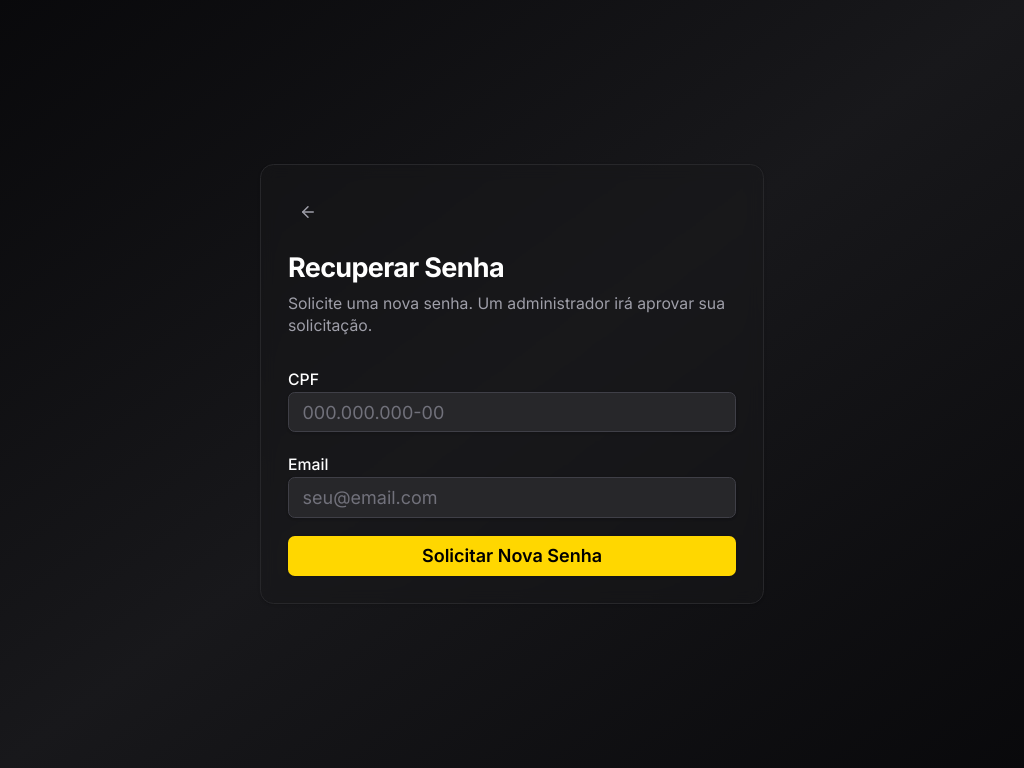
Test: Password Reset Page › should validate email format
Note: Enter valid CPF but invalid email
Type "61120319064" into the field with test id "reset-cpf-input" at [512, 412], box [288,392,736,432]
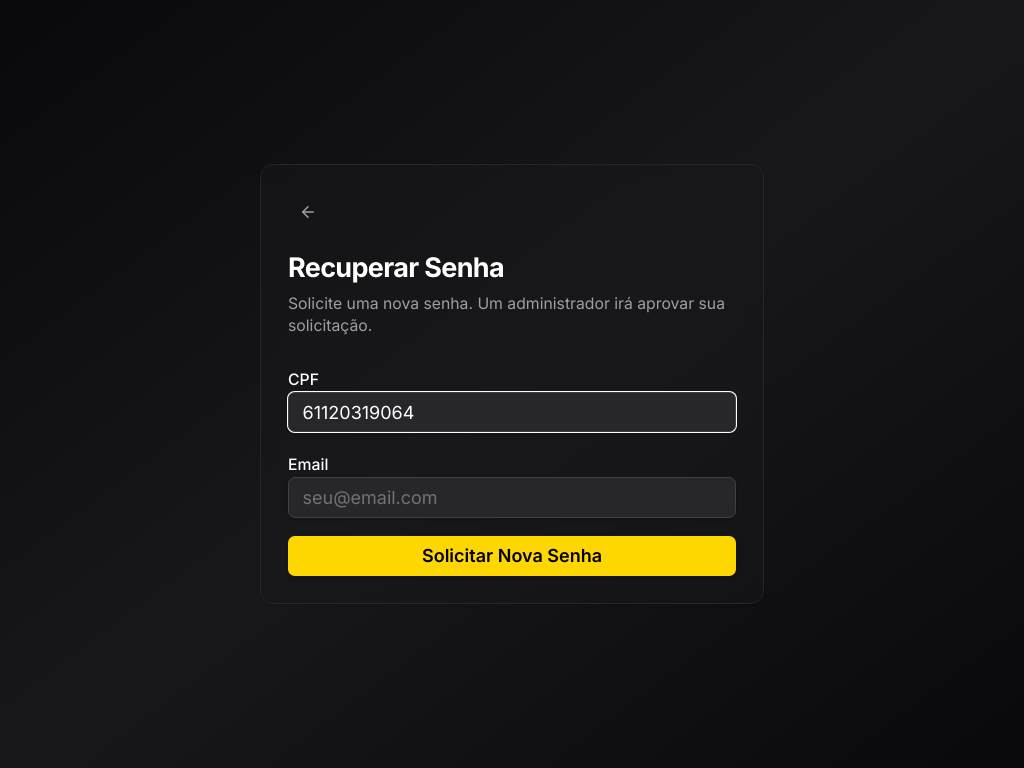
Type "invalid-email" into the field with test id "reset-email-input" at [512, 498], box [288,477,736,518]
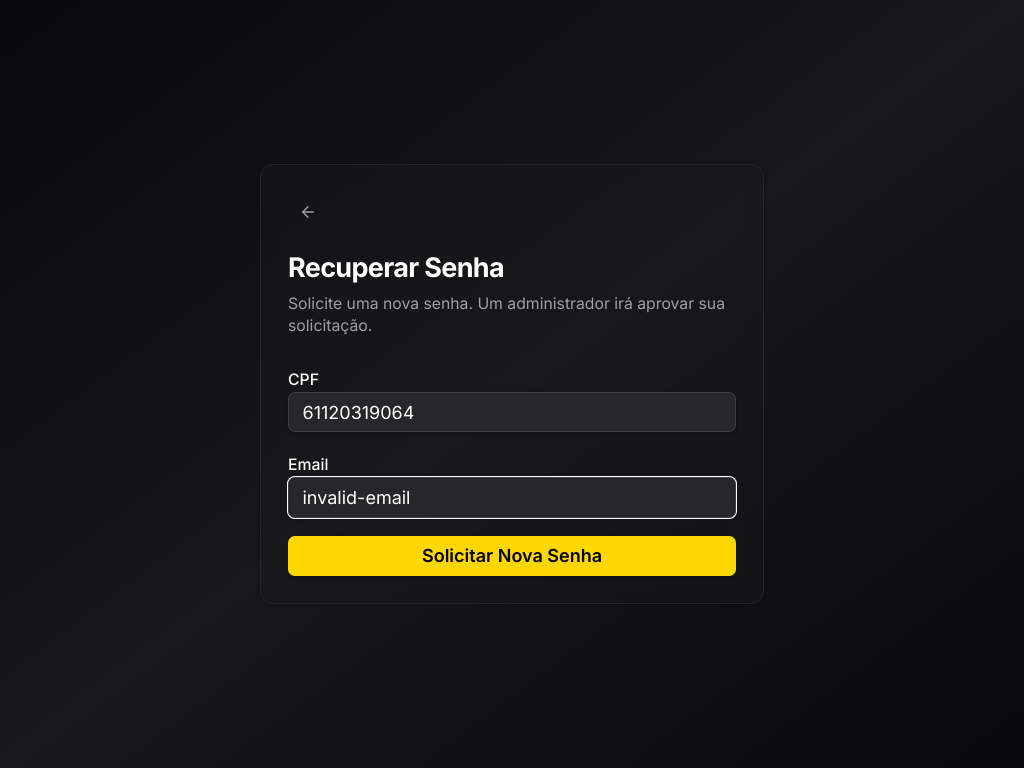
Click the button with test id "reset-submit-button" at [512, 556], box [288,536,736,576]
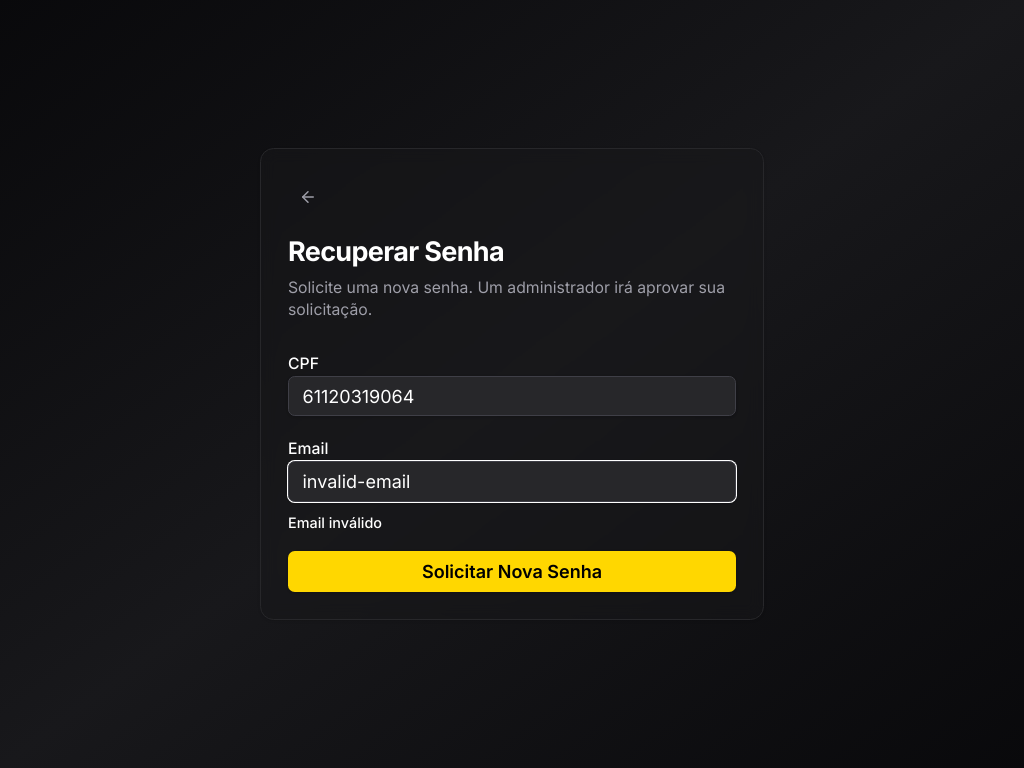
Check: the text "Email inválido" is shown, box [288,514,382,531]
